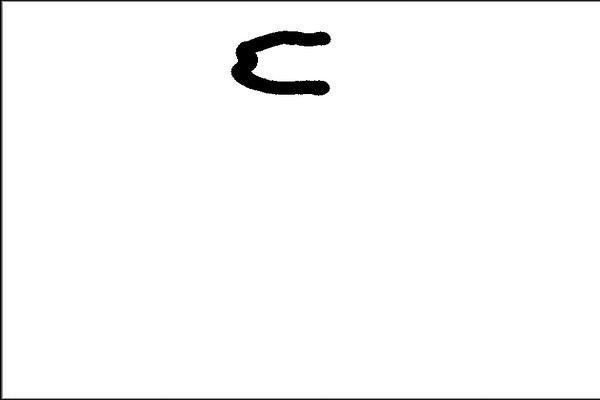C: (225, 21, 336, 102)
